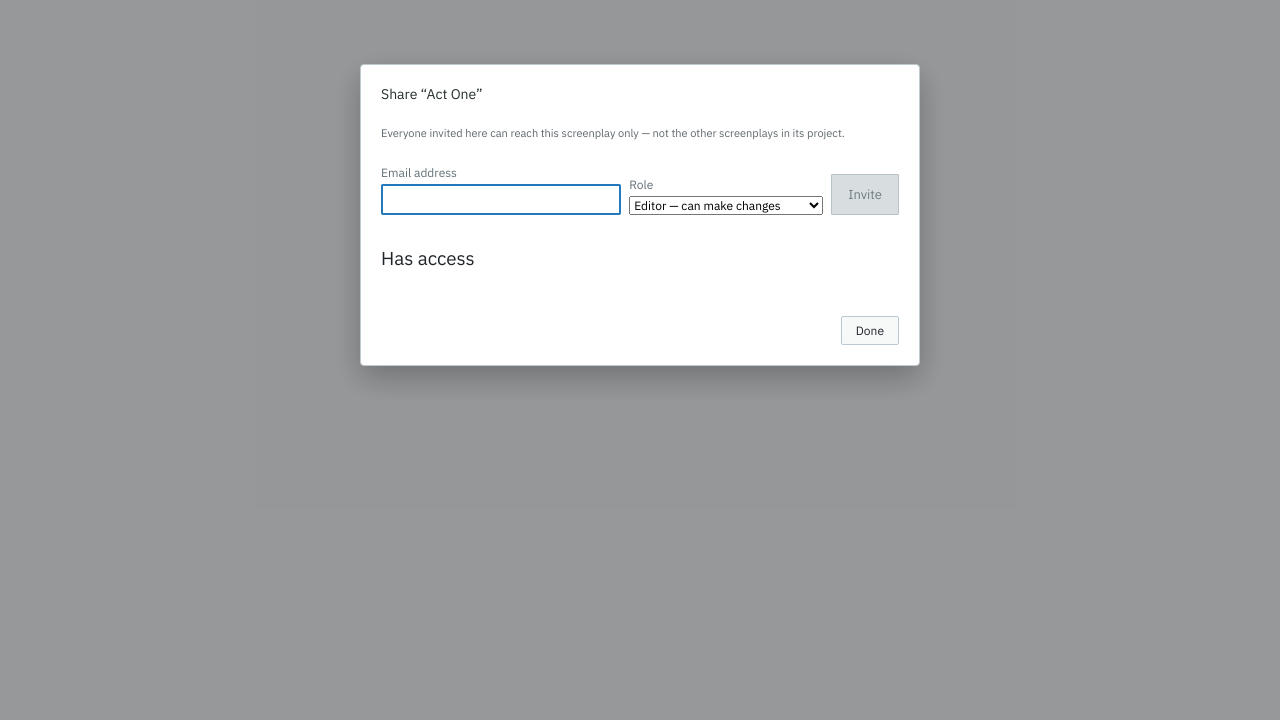
Test: the sharing dialog › invites through the scope’s own endpoint, with the typed address and chosen role
The width and height of the screenshot is (1280, 720).
Step 1. Type "invitee@example.test" into the field named "Invite by email address" → (501, 199), box top-left (381, 184), bottom-right (621, 215)
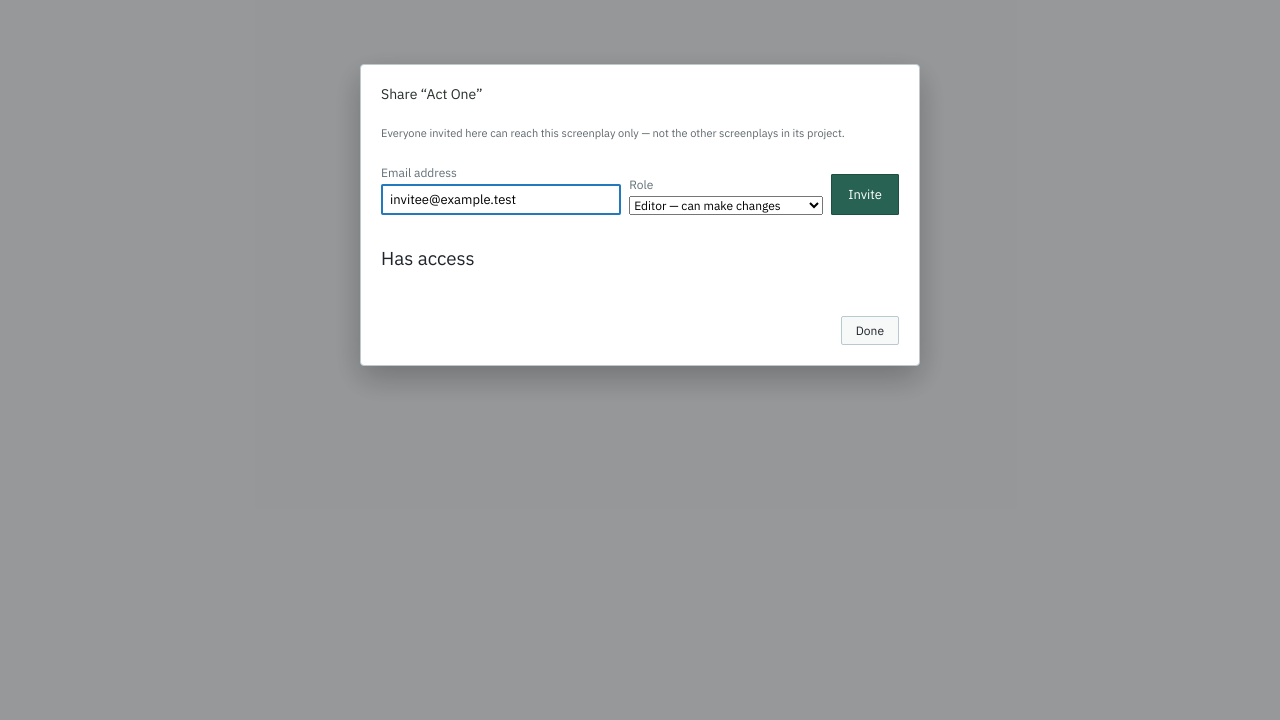
Step 2. Select "Reviewer — can read and export" in the dropdown named "Invited role" → (726, 205), box top-left (629, 196), bottom-right (823, 215)
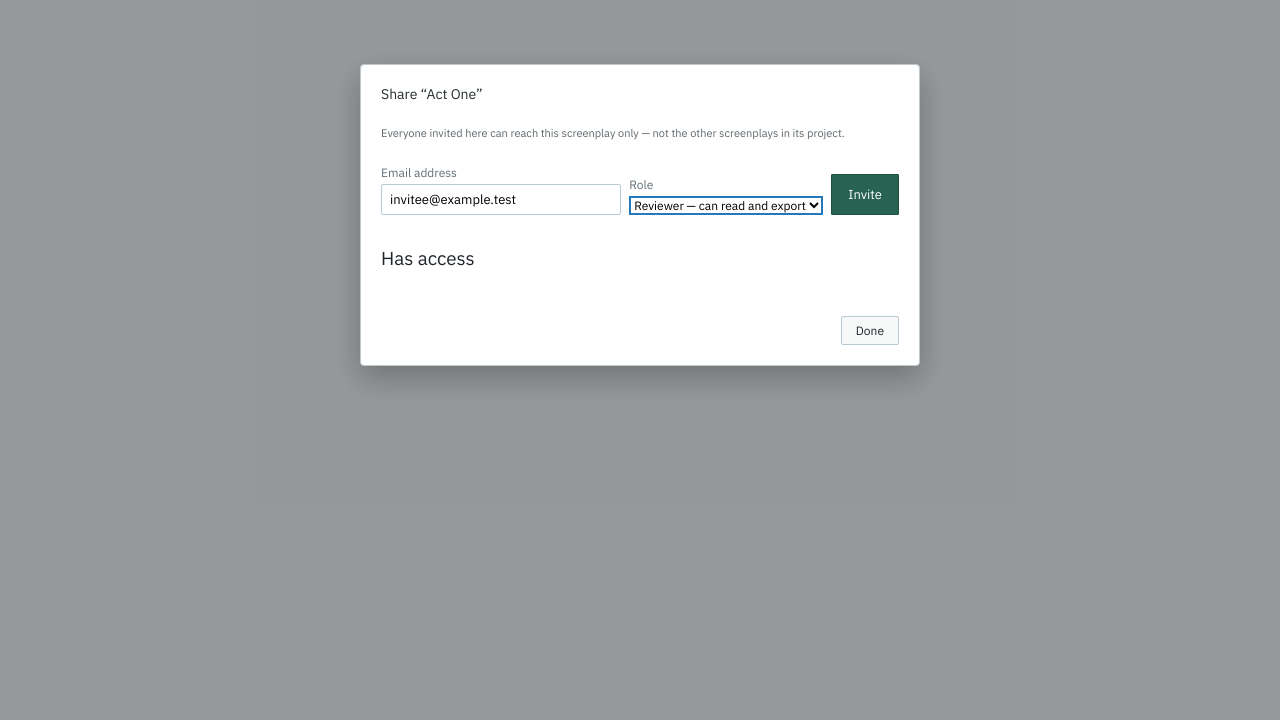
Step 3. Click the button "Invite" → click(865, 194), box top-left (831, 174), bottom-right (899, 215)
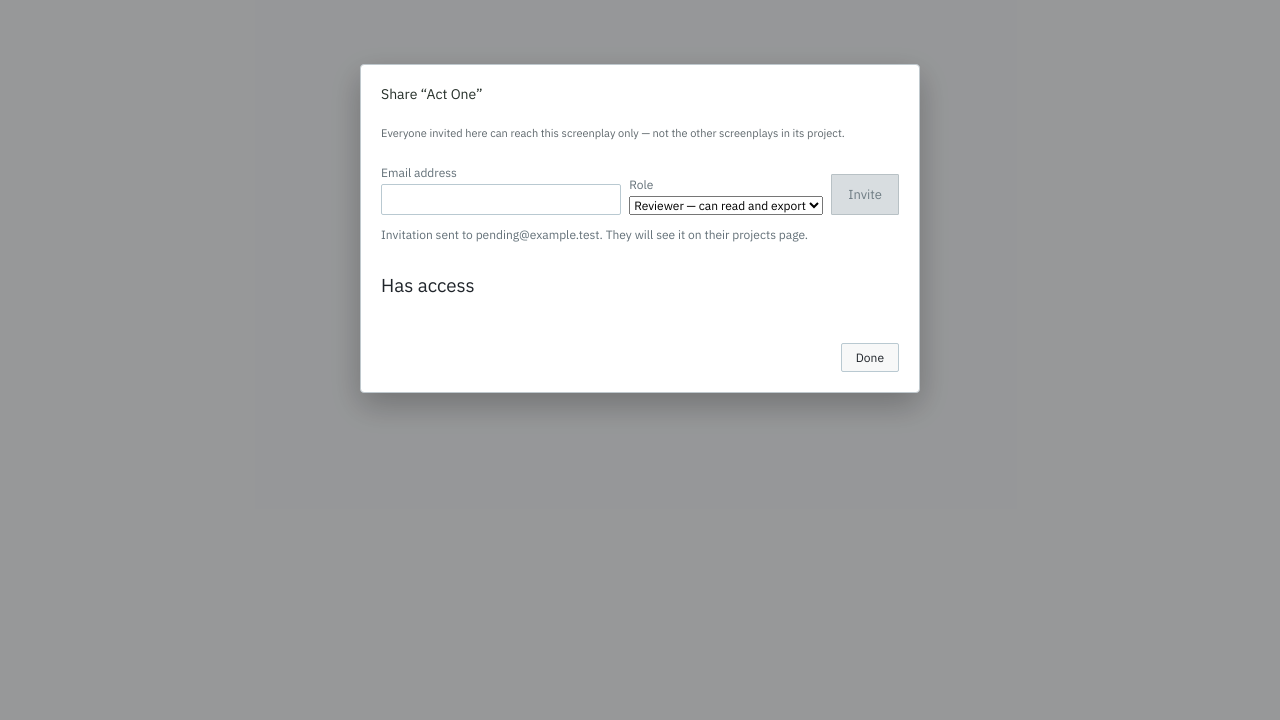
expect the text "Invitation sent to pending@example.test" is shown: met, box top-left (381, 227), bottom-right (808, 242)
